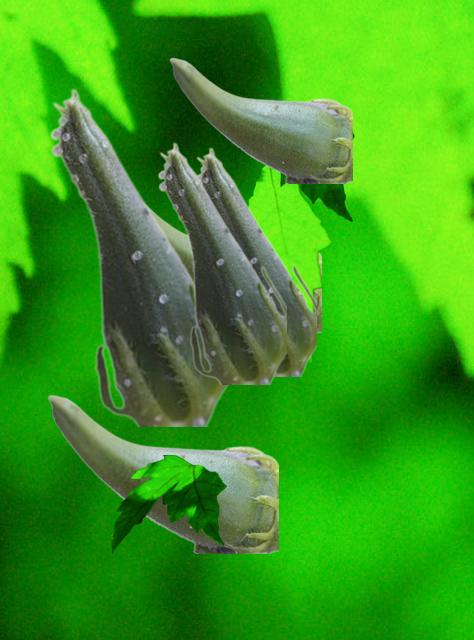okra: (49, 88, 228, 425), (47, 394, 277, 552), (157, 142, 285, 383), (195, 147, 315, 375), (169, 57, 351, 182), (149, 206, 320, 333)
